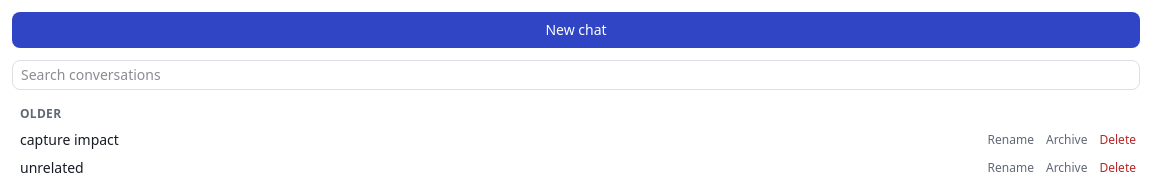
it: Sidebar › filters by title
Expected: the button "capture impact" is shown, [12,126,980,154]
Type "capture" into the search field with placeholder "Search conversations". click: (576, 75)
box: [12,60,1140,90]
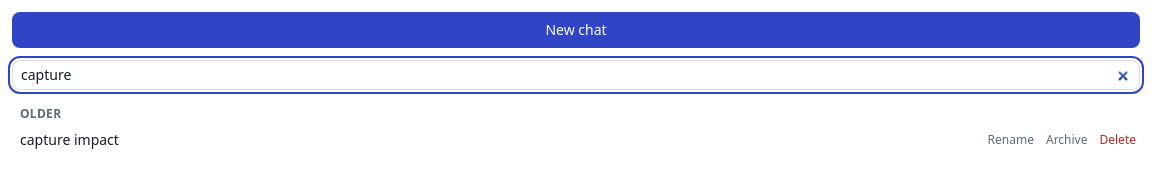
Expected: the button "capture impact" is shown, [12,126,980,154]
Expected: the button "unrelated" is gone
